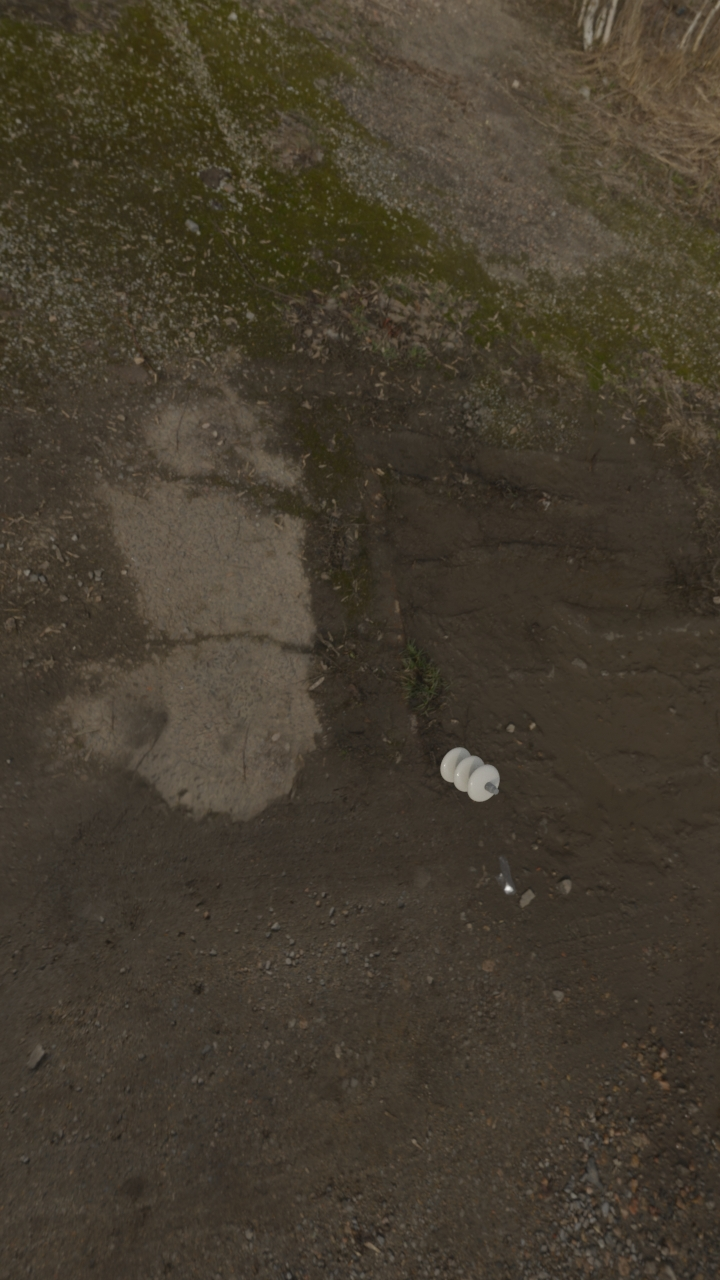ceramicinsulators: (440, 747, 499, 801)
